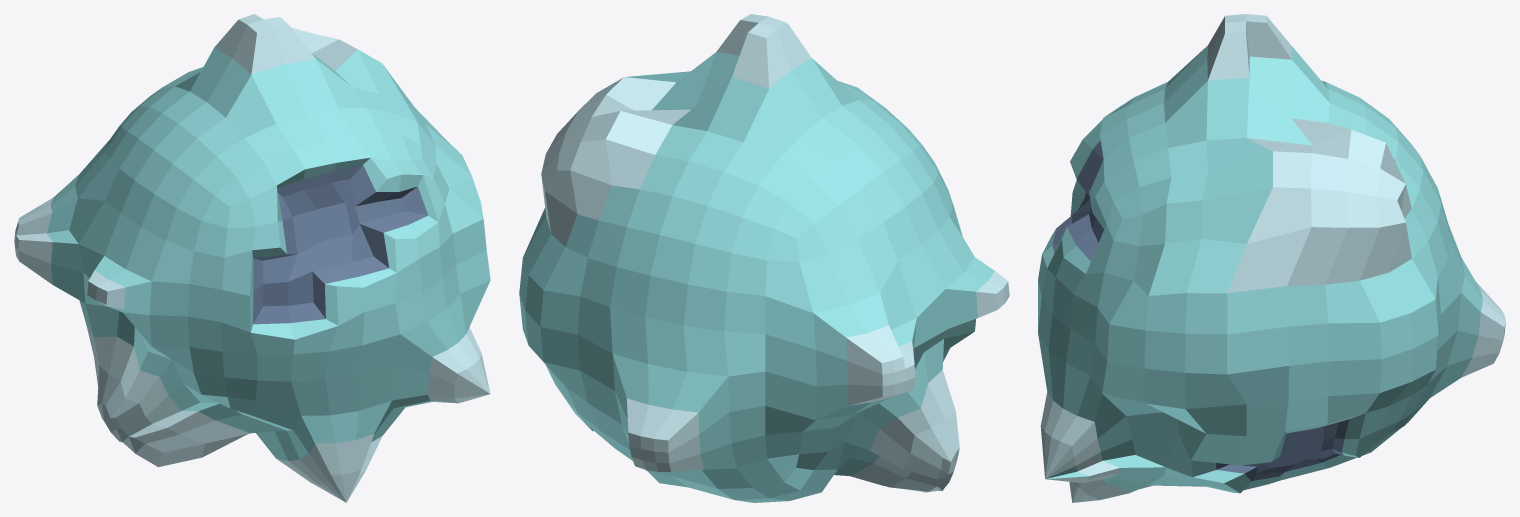
File: IcePlanet2.fbx
The picture shows the model from 3 angles, left to right: view 1: azimuth 30°, elevation 25°; view 2: azimuth 150°, elevation 25°; view 3: azimuth 270°, elevation 25°; orthographic projection. The views are drawn at different scales.
Visible parts, largest first — view 1: Cube.001; view 2: Cube.001; view 3: Cube.001.
Boxes of the visible parts, left/top/right/bottom form: Cube.001: left=14, top=14, right=490, bottom=502; Cube.001: left=519, top=14, right=1009, bottom=502; Cube.001: left=1038, top=14, right=1505, bottom=502.
Size of the model in its own units: 197 by 213 by 188.
